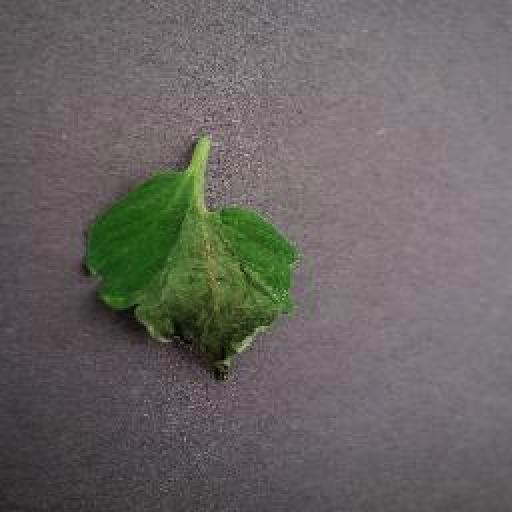disease_tomato: (88, 170, 298, 382)
